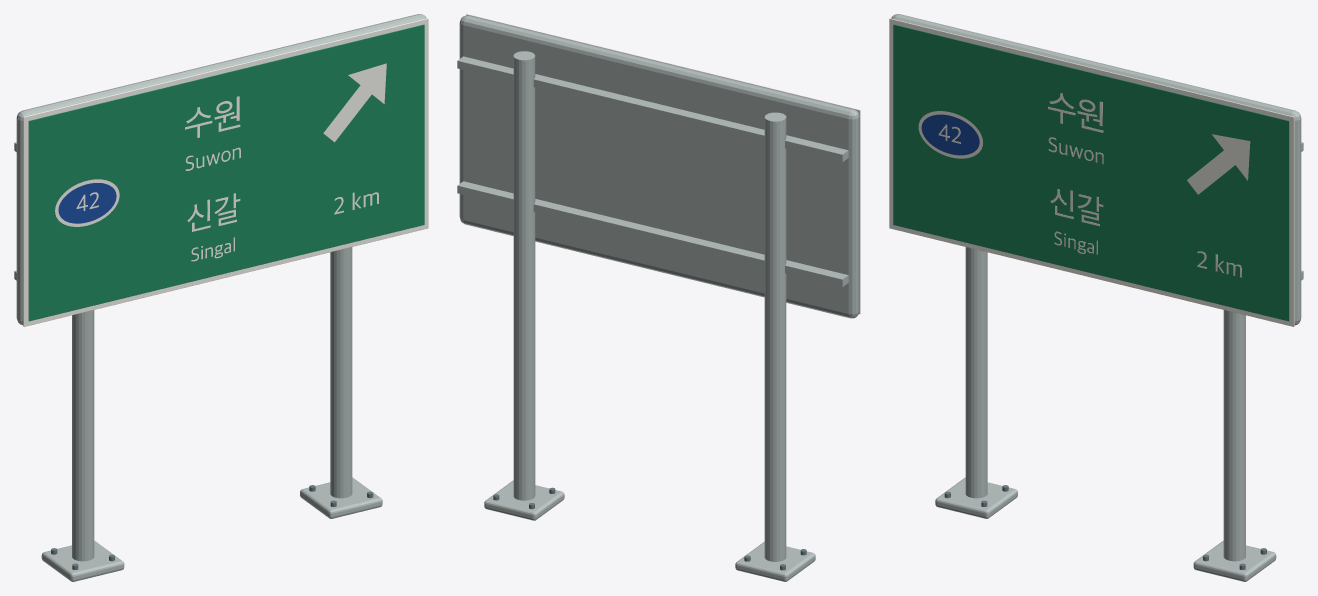
The model's file is SIMUS_KGuide_Direction.fbx.
3 renders of one model, left to right at view 1: azimuth 30°, elevation 25°; view 2: azimuth 150°, elevation 25°; view 3: azimuth 330°, elevation 25°, orthographic. The views are drawn at different scales.
Visible parts, largest first — view 1: Green face.002, White perimeter.002, Support pole.004, Support pole.005, Aluminium sign back.002, Direction arrow, Foot plate.005, Foot plate.004, Route oval, Route oval border, Text 수원, Text 신갈; view 2: Aluminium sign back.002, Support pole.005, Support pole.004, Rear stiffener.005, Rear stiffener.004, Foot plate.004, Foot plate.005, White perimeter.002; view 3: Green face.002, White perimeter.002, Support pole.004, Support pole.005, Aluminium sign back.002, Direction arrow, Foot plate.004, Foot plate.005, Route oval, Route oval border, Text 수원, Text 신갈.
Boxes of the visible parts, x1,y1,x2,y2 form: Green face.002: (28,24,424,321); White perimeter.002: (23,18,428,326); Support pole.004: (72,310,94,561); Support pole.005: (330,247,352,498); Aluminium sign back.002: (16,14,426,325); Direction arrow: (323,63,386,142); Foot plate.005: (300,477,382,518); Foot plate.004: (41,540,124,581); Route oval: (58,183,116,223); Route oval border: (55,179,119,226); Text 수원: (185,96,240,137); Text 신갈: (187,193,240,231); Aluminium sign back.002: (459,15,859,318); Support pole.005: (513,51,535,500); Support pole.004: (764,112,786,561); Rear stiffener.005: (457,56,848,162); Rear stiffener.004: (457,181,848,287); Foot plate.004: (735,541,815,581); Foot plate.005: (484,480,564,520); White perimeter.002: (466,14,860,313); Green face.002: (893,24,1289,321); White perimeter.002: (889,18,1294,326); Support pole.004: (965,247,987,498); Support pole.005: (1223,310,1245,561); Aluminium sign back.002: (891,14,1301,325); Direction arrow: (1187,134,1250,194); Foot plate.004: (935,477,1017,518); Foot plate.005: (1193,540,1276,581); Route oval: (921,114,979,155); Route oval border: (918,111,982,158); Text 수원: (1048,93,1103,132); Text 신갈: (1050,189,1103,226).
Size of the model in its own units: 380 by 425 by 50.5.
